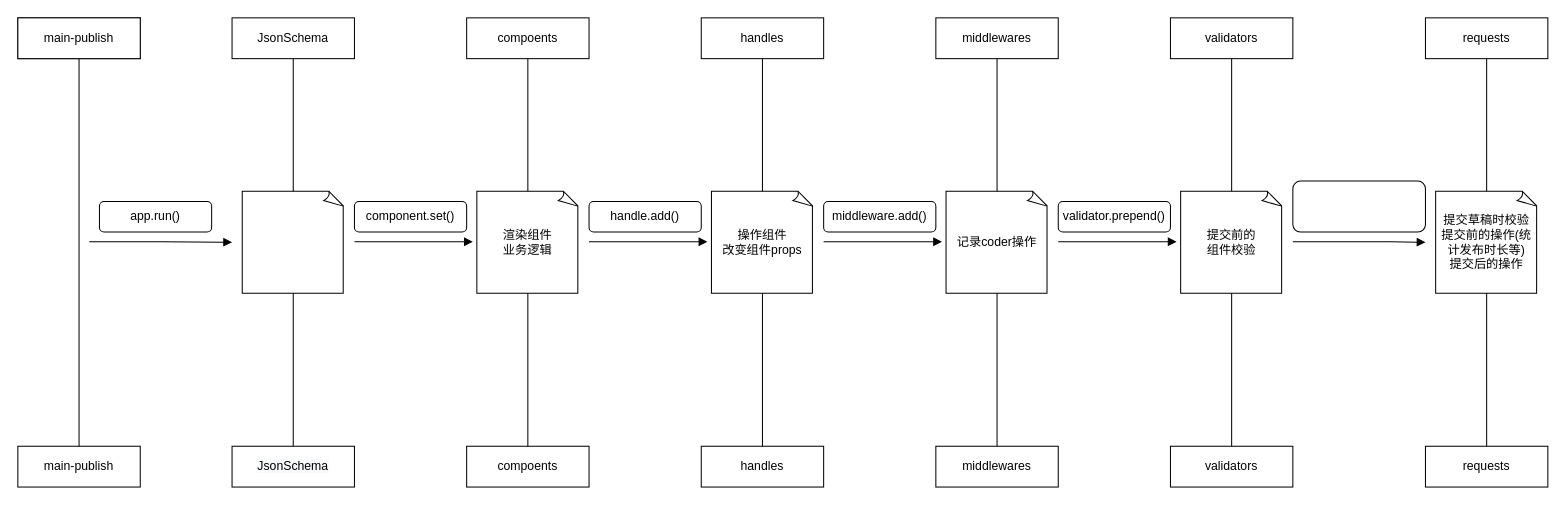
Some shapes in this 1566 by 505 pixel diagram are drawn without their labels. Each missing label, with the box of its shape:
components layout rules request models: (241, 190, 344, 293)
request.condition.add() request.before.add() request.success.add(): (1292, 180, 1425, 232)
